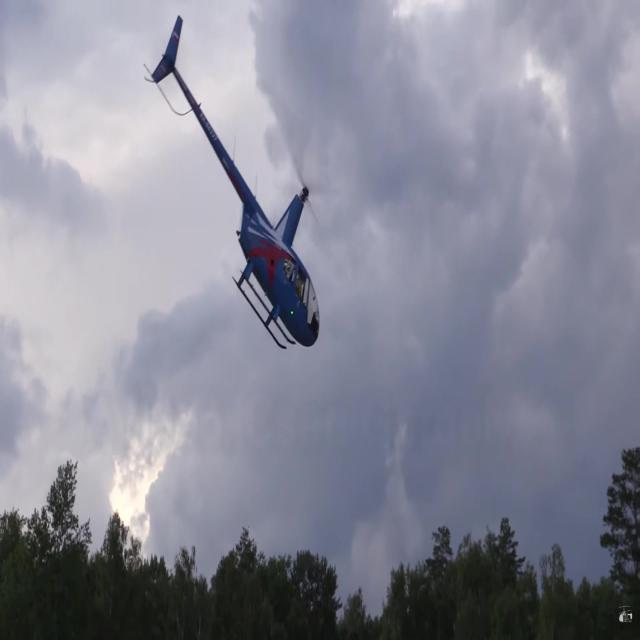CIV_HELO: (150, 12, 322, 355)
